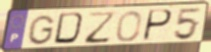5: (173, 6, 205, 41)
D: (52, 12, 88, 46)
G: (25, 14, 56, 47)
O: (115, 10, 143, 43)
P: (141, 8, 174, 43)
Z: (84, 10, 118, 45)
